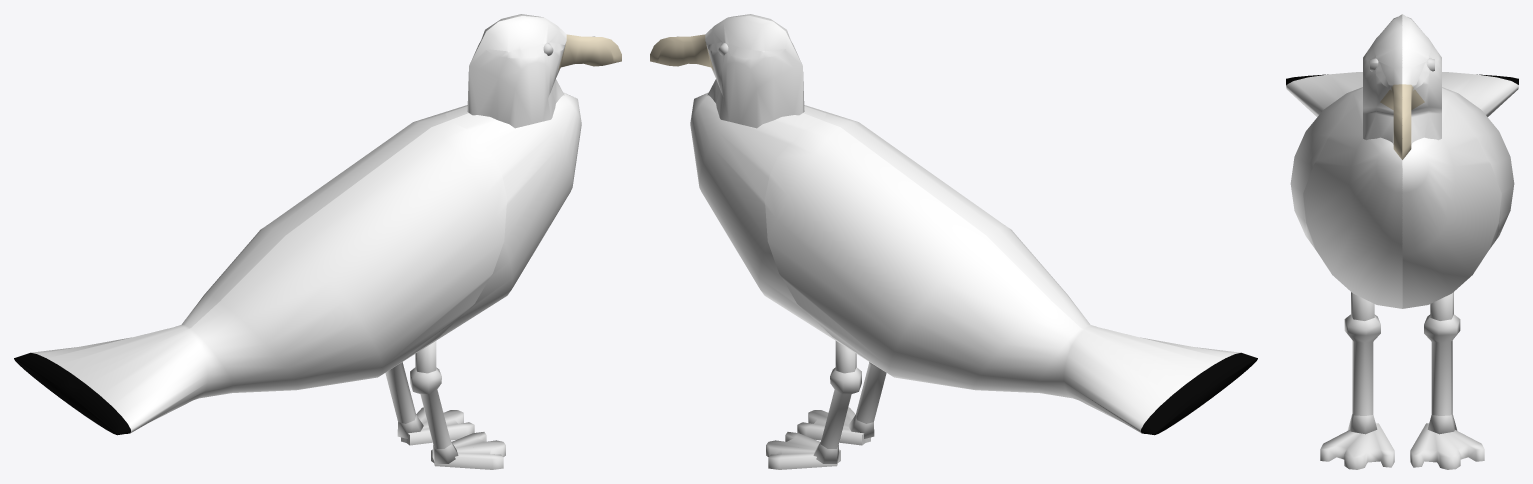
Rendered from bird.dae.
The picture shows the model from 3 angles, left to right: view 1: azimuth 30°, elevation 25°; view 2: azimuth 150°, elevation 25°; view 3: azimuth 270°, elevation 25°; orthographic projection. The views are drawn at different scales.
Visible parts, largest first — view 1: Gruppe#299_001, Gruppe#305_001, Gruppe#299_002, Gruppe#301_001, Gruppe#301_003, Gruppe#296_001, Gruppe#296_004; view 2: Gruppe#299_002, Gruppe#305_004, Gruppe#299_001, Gruppe#301_003, Gruppe#301_001, Gruppe#296_003, Gruppe#296_002; view 3: Gruppe#299_002, Gruppe#299_001, Gruppe#305_004, Gruppe#305_001, Gruppe#301_003, Gruppe#301_001, Gruppe#296_004, Gruppe#296_002, Gruppe#296_003, Gruppe#296_001.
Boxes of the visible parts, left/top/right/bottom form: Gruppe#299_001: left=65, top=93, right=581, bottom=435; Gruppe#305_001: left=469, top=16, right=621, bottom=128; Gruppe#299_002: left=14, top=93, right=570, bottom=401; Gruppe#301_001: left=410, top=341, right=458, bottom=463; Gruppe#301_003: left=385, top=362, right=423, bottom=438; Gruppe#296_001: left=434, top=443, right=505, bottom=469; Gruppe#296_004: left=406, top=411, right=474, bottom=445; Gruppe#299_002: left=690, top=93, right=1206, bottom=435; Gruppe#305_004: left=650, top=16, right=802, bottom=128; Gruppe#299_001: left=701, top=93, right=1257, bottom=401; Gruppe#301_003: left=813, top=341, right=861, bottom=463; Gruppe#301_001: left=848, top=362, right=886, bottom=438; Gruppe#296_003: left=766, top=443, right=837, bottom=469; Gruppe#296_002: left=797, top=411, right=865, bottom=445; Gruppe#299_002: left=1402, top=72, right=1518, bottom=308; Gruppe#299_001: left=1286, top=72, right=1402, bottom=308; Gruppe#305_004: left=1402, top=14, right=1441, bottom=159; Gruppe#305_001: left=1363, top=14, right=1402, bottom=159; Gruppe#301_003: left=1424, top=292, right=1460, bottom=434; Gruppe#301_001: left=1344, top=292, right=1380, bottom=434; Gruppe#296_004: left=1410, top=423, right=1451, bottom=469; Gruppe#296_002: left=1353, top=423, right=1394, bottom=469; Gruppe#296_003: left=1439, top=430, right=1484, bottom=469; Gruppe#296_001: left=1320, top=430, right=1365, bottom=469.
Bounding box in the file's own units: 21.22 × 15.04 × 6.84.
